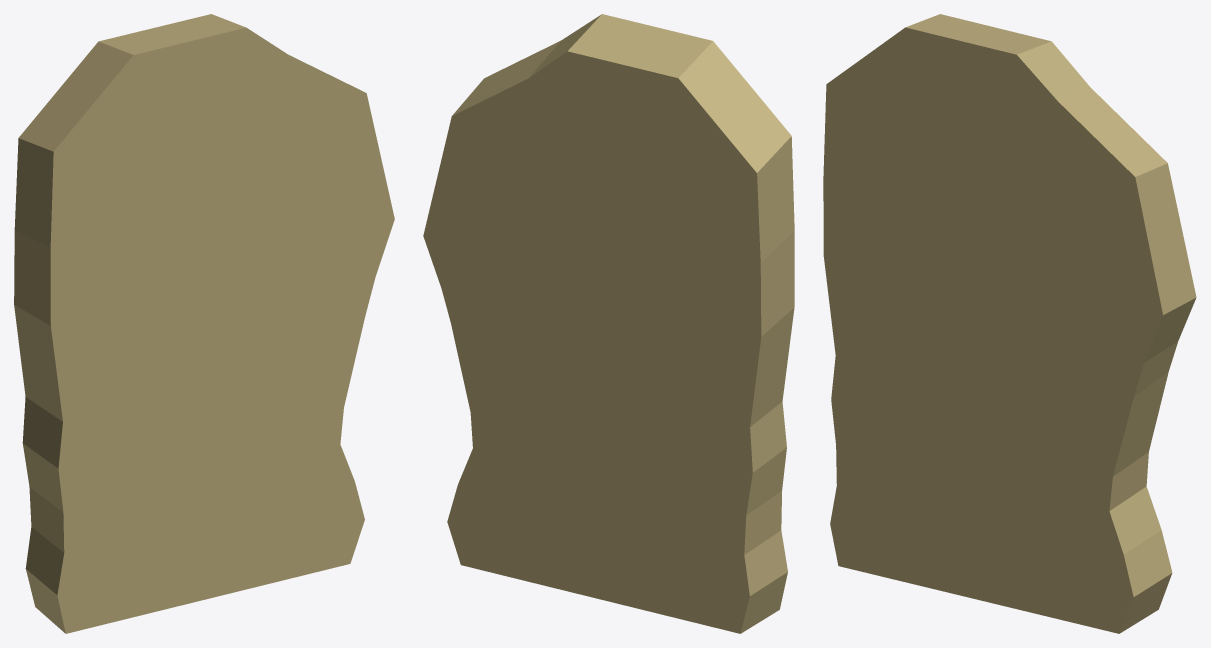
The model's file is memorial_stele.obj.
3 views of the same model, side by side, from view 1: azimuth 30°, elevation 25°; view 2: azimuth 150°, elevation 25°; view 3: azimuth 330°, elevation 25° (orthographic).
Visible parts, largest first — view 1: memorial_stele; view 2: memorial_stele; view 3: memorial_stele.
Boxes of the visible parts, box(x1,y1,x2,y2) form: memorial_stele: box(14, 14, 394, 633); memorial_stele: box(423, 14, 794, 633); memorial_stele: box(823, 14, 1196, 633).
Size of the model in its own units: 1.22 by 1.9 by 0.2163.
